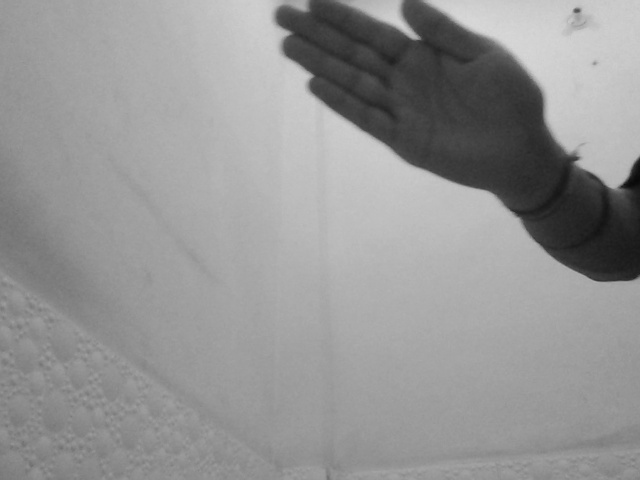Hello: (275, 2, 544, 192)
